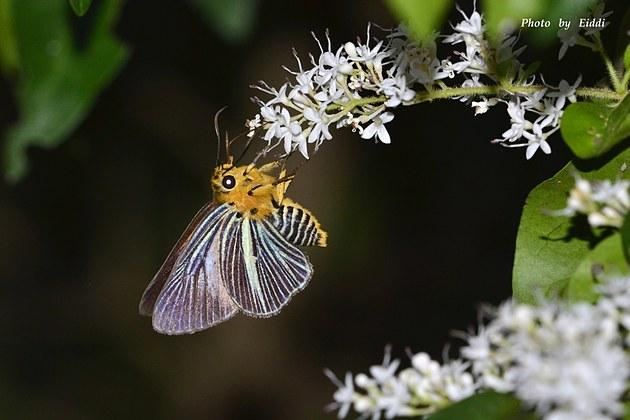Hesperiidae: (130, 106, 329, 338)
